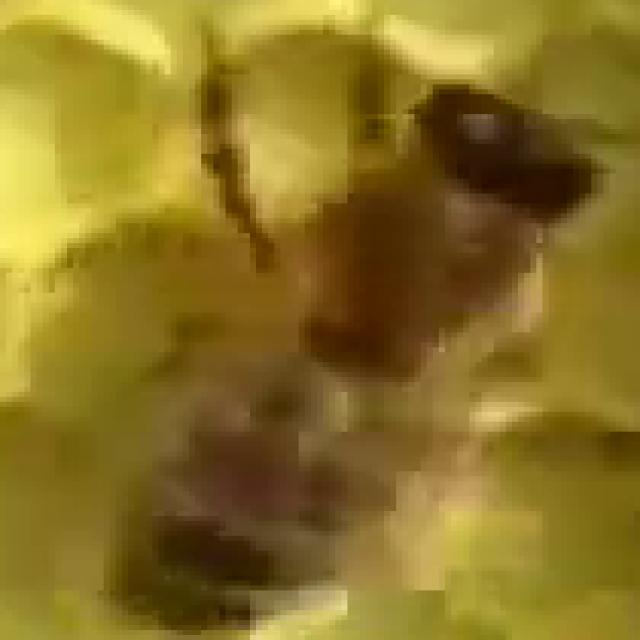honeybee: (108, 89, 608, 621)
